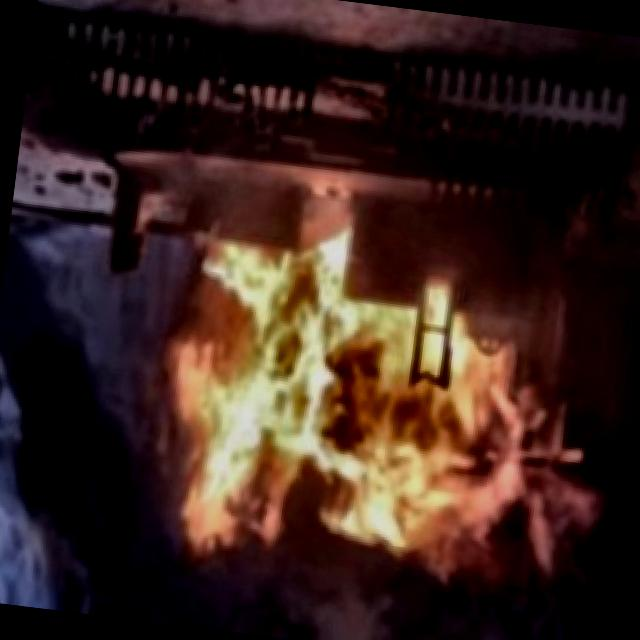fire: (152, 255, 580, 606)
